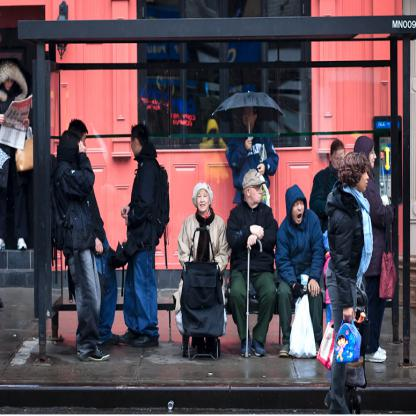Not_Wearing_Mask: (358, 164, 369, 192), (292, 201, 305, 224), (250, 183, 263, 203), (129, 134, 139, 156), (242, 107, 252, 128), (198, 191, 207, 210), (334, 149, 343, 168), (369, 146, 376, 170)
